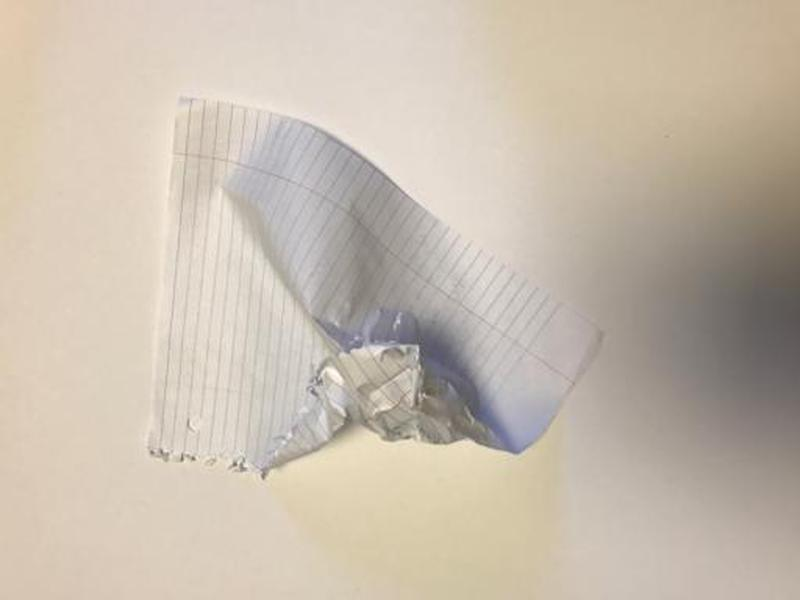paper: (143, 90, 607, 483)
